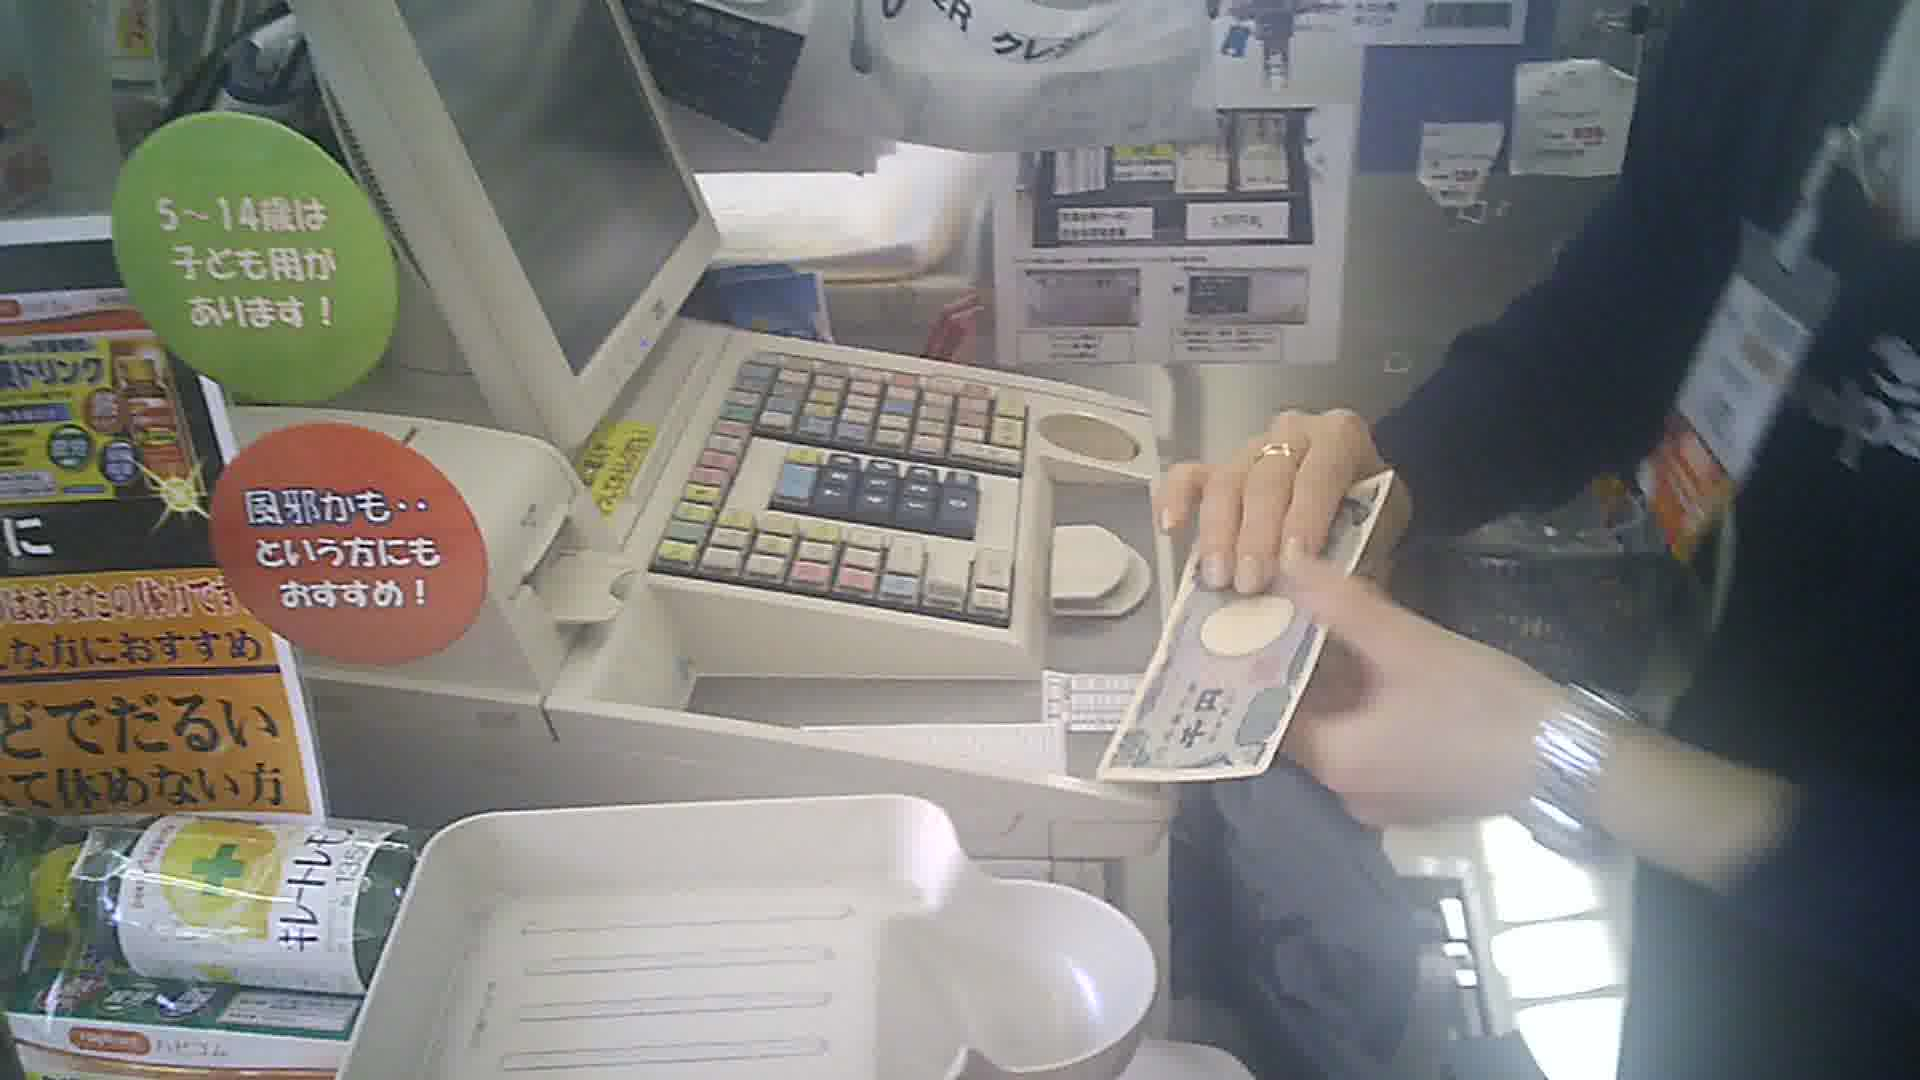1,000 Yen: (1105, 477, 1402, 796)
